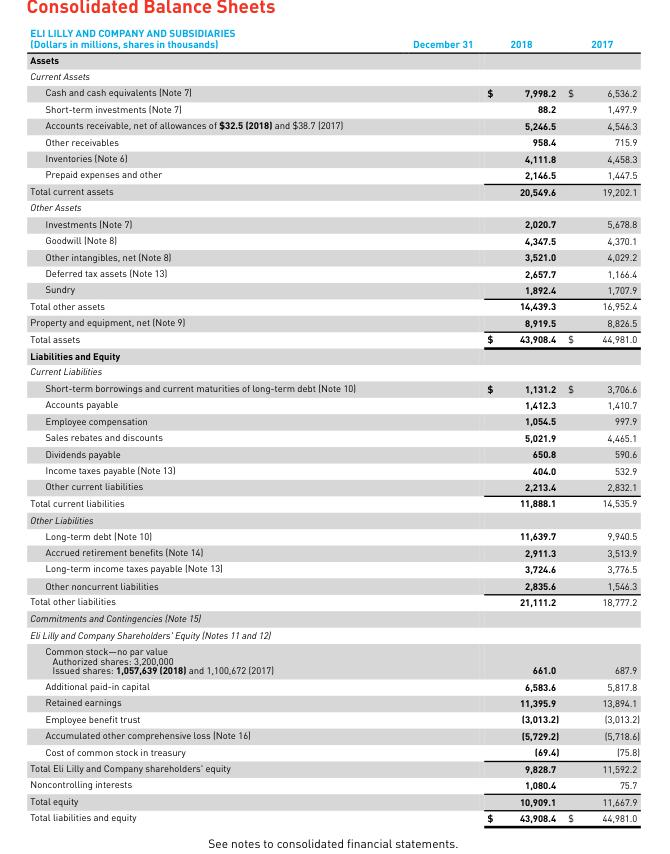table: (29, 28, 639, 823)
table column: (29, 28, 323, 823), (323, 28, 479, 823), (479, 28, 562, 823), (562, 28, 639, 823)
table column header: (29, 28, 639, 52)
table projected row header: (29, 199, 639, 216), (29, 347, 639, 364), (29, 626, 639, 643), (29, 52, 639, 68), (29, 68, 639, 84), (29, 364, 639, 380), (29, 512, 639, 528), (29, 610, 639, 626)
table row: (29, 643, 639, 678), (29, 28, 639, 52), (29, 84, 639, 101), (29, 117, 639, 134), (29, 150, 639, 167), (29, 199, 639, 216), (29, 232, 639, 249), (29, 281, 639, 298), (29, 314, 639, 331), (29, 347, 639, 364), (29, 396, 639, 413), (29, 429, 639, 446), (29, 462, 639, 479), (29, 495, 639, 512), (29, 544, 639, 561), (29, 593, 639, 610), (29, 626, 639, 643), (29, 694, 639, 711), (29, 727, 639, 744), (29, 760, 639, 777), (29, 52, 639, 68), (29, 68, 639, 84), (29, 101, 639, 117), (29, 134, 639, 150), (29, 167, 639, 183), (29, 183, 639, 199), (29, 216, 639, 232), (29, 249, 639, 265), (29, 265, 639, 281), (29, 298, 639, 314), (29, 331, 639, 347), (29, 364, 639, 380), (29, 380, 639, 396), (29, 413, 639, 429), (29, 446, 639, 462), (29, 479, 639, 495), (29, 512, 639, 528), (29, 528, 639, 544), (29, 561, 639, 577), (29, 577, 639, 593), (29, 610, 639, 626), (29, 678, 639, 694), (29, 711, 639, 727), (29, 744, 639, 760), (29, 777, 639, 793), (29, 793, 639, 809), (29, 809, 639, 823)
table spanning cell: (29, 643, 479, 678), (29, 84, 479, 101), (29, 117, 479, 134), (29, 150, 479, 167), (29, 232, 479, 249), (29, 281, 479, 298), (29, 314, 479, 331), (29, 396, 479, 413), (29, 429, 479, 446), (29, 462, 479, 479), (29, 495, 479, 512), (29, 544, 479, 561), (29, 593, 479, 610), (29, 694, 479, 711), (29, 727, 479, 744), (29, 760, 479, 777), (29, 101, 479, 117), (29, 134, 479, 150), (29, 167, 479, 183), (29, 183, 479, 199), (29, 216, 479, 232), (29, 249, 479, 265), (29, 265, 479, 281), (29, 298, 479, 314), (29, 331, 479, 347), (29, 380, 479, 396), (29, 413, 479, 429), (29, 446, 479, 462), (29, 479, 479, 495), (29, 528, 479, 544), (29, 561, 479, 577), (29, 577, 479, 593), (29, 678, 479, 694), (29, 711, 479, 727), (29, 744, 479, 760), (29, 777, 479, 793), (29, 793, 479, 809), (29, 809, 479, 823)
